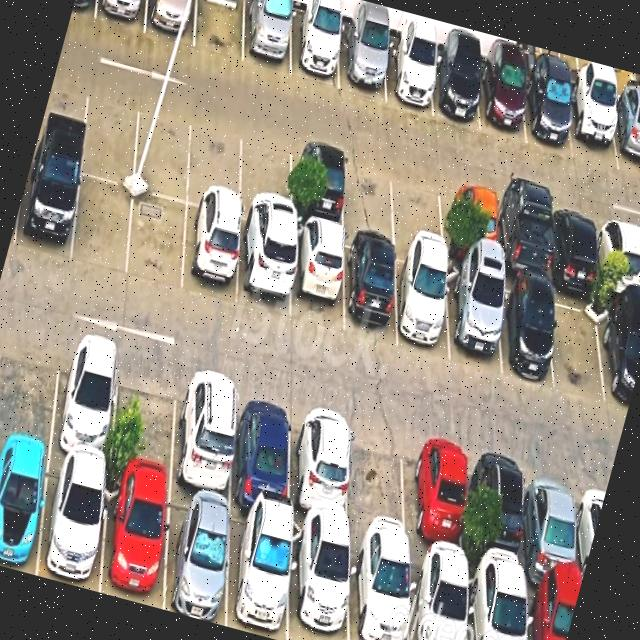empty: (110, 348, 179, 487), (0, 318, 62, 451), (349, 412, 409, 549), (133, 96, 194, 203), (551, 284, 607, 400), (71, 175, 134, 276), (80, 82, 139, 186), (127, 190, 186, 294), (239, 124, 291, 232), (187, 112, 241, 216), (393, 163, 444, 250), (346, 151, 395, 239), (194, 0, 244, 62)
occupied: (49, 331, 119, 469), (37, 455, 106, 592), (101, 472, 168, 609), (163, 488, 229, 626), (172, 365, 237, 502), (225, 506, 290, 640), (231, 381, 292, 515), (290, 397, 348, 532), (409, 426, 463, 565), (288, 521, 348, 640), (14, 156, 81, 262), (527, 456, 579, 591), (475, 443, 525, 578), (0, 443, 49, 575), (495, 275, 553, 384), (446, 263, 501, 375), (396, 247, 449, 361), (350, 539, 409, 640), (343, 234, 397, 344), (290, 221, 343, 332), (182, 205, 239, 306), (236, 221, 289, 320), (409, 551, 467, 640), (495, 189, 548, 282), (292, 138, 344, 228), (444, 177, 496, 266), (566, 85, 618, 170), (468, 566, 526, 640), (550, 202, 599, 289), (603, 297, 640, 412), (525, 70, 572, 157), (290, 9, 340, 89), (480, 59, 526, 143), (431, 50, 479, 130), (384, 38, 432, 116), (598, 213, 640, 300), (243, 0, 291, 76), (339, 26, 385, 100), (525, 579, 579, 640), (609, 95, 640, 176), (144, 0, 196, 46), (94, 0, 147, 33)
